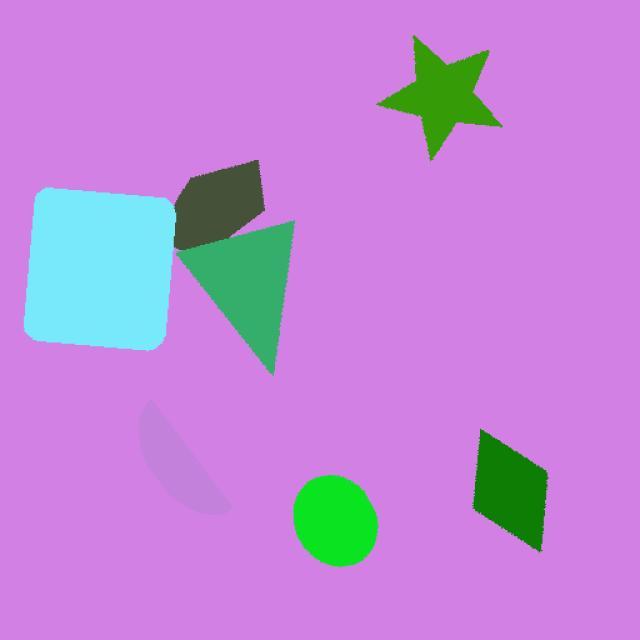Circle: (249, 450, 397, 578)
Kite: (442, 417, 580, 564)
Pentagon: (143, 153, 271, 265)
Star: (369, 22, 532, 185)
Triangle: (157, 197, 310, 375)
square: (22, 175, 192, 378)
